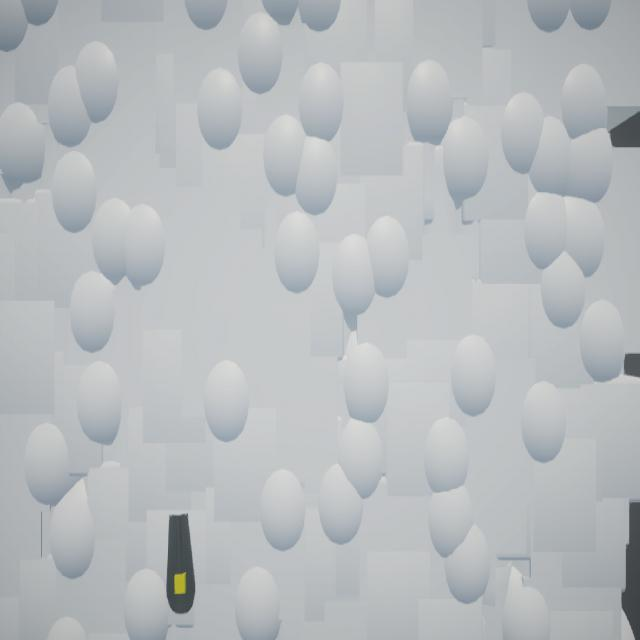handle_folk: (168, 515, 197, 615)
